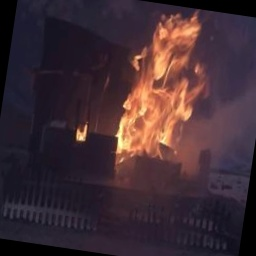fire: (98, 2, 217, 174)
